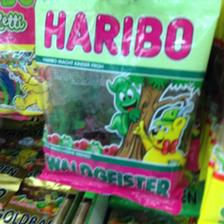Suessigkeit: (34, 1, 215, 213)
